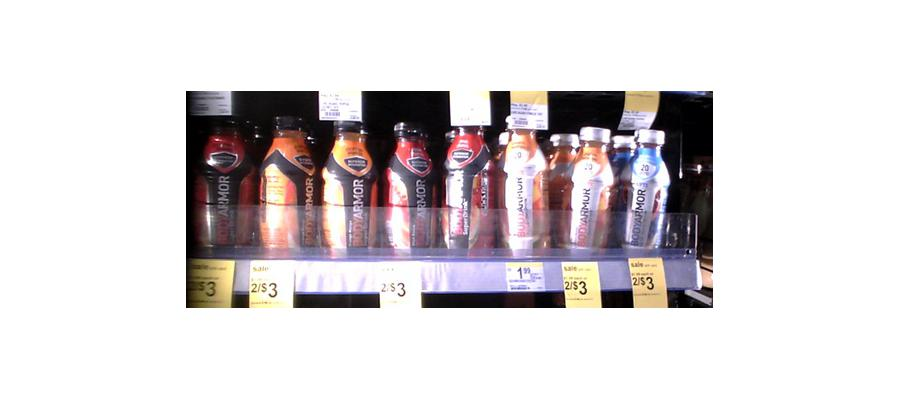bottle: (319, 103, 379, 254), (256, 105, 315, 253), (200, 110, 252, 250), (444, 115, 495, 253), (385, 121, 438, 252), (500, 108, 546, 256), (566, 122, 617, 252), (622, 126, 672, 252)
